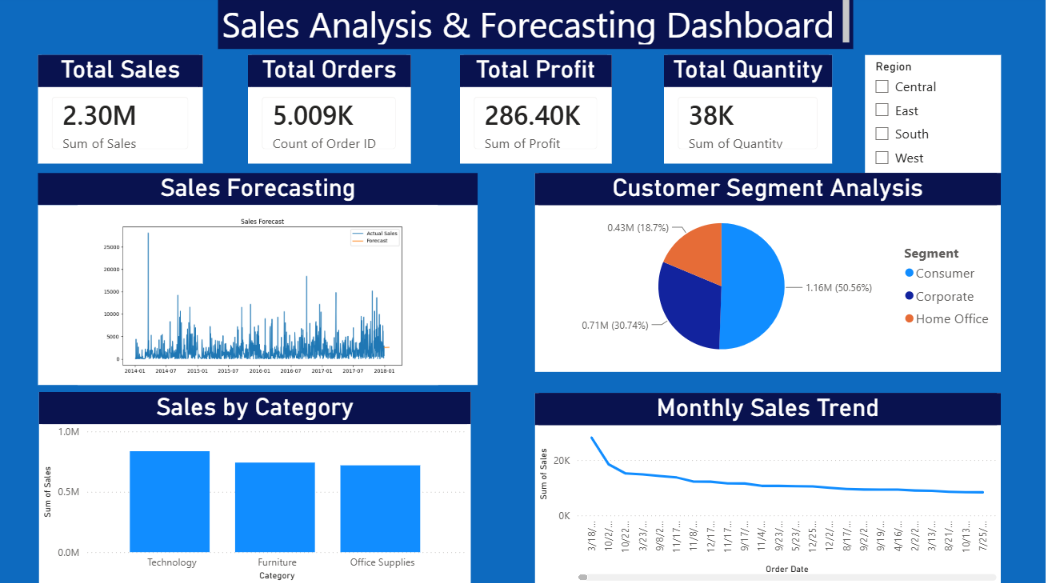

The page's visual inventory and layout, read from the dashboard file:
{"tool":"powerbi","page":{"name":"Page 1","canvas":[1280,720],"ordinal":0},"visuals":[{"type":"shape","box":[0,0,1280.3,720.2],"z":0},{"type":"cardVisual","title":"Total Sales","fields":{"Data":["Sum(Sample - Superstore.Sales)"]},"box":[46.7,72.7,201.7,133.1],"z":1000},{"type":"cardVisual","title":"Total Orders","fields":{"Data":["Count(Sample - Superstore.Order ID)"]},"box":[303.3,72.7,199,133.1],"z":2000},{"type":"clusteredColumnChart","title":"Sales by Category","fields":{"Category":["Sample - Superstore.Category"],"Y":["Sum(Sample - Superstore.Sales)"]},"box":[47.2,483.8,528.3,235.8],"z":3000},{"type":"pieChart","title":"Customer Segment Analysis","fields":{"Category":["Sample - Superstore.Segment"],"Y":["Sum(Sample - Superstore.Sales)"]},"box":[654.5,216.8,569.5,242.9],"z":4000},{"type":"image","title":"Sales Forecasting","box":[46.7,216.8,537.9,259.3],"z":5000},{"type":"lineChart","title":"Monthly Sales Trend","fields":{"Category":["Sample - Superstore.Order Date"],"Y":["Sum(Sample - Superstore.Sales)"]},"box":[654.5,485.8,569.5,234.6],"z":6000},{"type":"cardVisual","title":"Total Quantity","fields":{"Data":["Sum(Sample - Superstore.Quantity)"]},"box":[812.4,72.7,205.8,133.1],"z":7000},{"type":"cardVisual","title":"Total Profit","fields":{"Data":["Sum(Sample - Superstore.Profit)"]},"box":[562.6,72.7,185.2,133.1],"z":8000},{"type":"textbox","box":[266.2,0,776.7,64.5],"z":9000},{"type":"slicer","fields":{"Values":["Sample - Superstore.Region"]},"box":[1057.8,72.1,166.3,144.3],"z":9001}]}

Visuals, with their boxes in screenshot pixels (x1, y1, x2, y2), scaled from the page's 1280x720 canvas onto the 1046x583 screenshot:
shape: (left=0, top=0, right=1045, bottom=582)
"Total Sales" cardVisual: (left=38, top=59, right=203, bottom=167)
"Total Orders" cardVisual: (left=248, top=59, right=410, bottom=167)
"Sales by Category" clusteredColumnChart: (left=39, top=392, right=470, bottom=582)
"Customer Segment Analysis" pieChart: (left=535, top=176, right=1000, bottom=372)
"Sales Forecasting" image: (left=38, top=176, right=478, bottom=386)
"Monthly Sales Trend" lineChart: (left=535, top=393, right=1000, bottom=582)
"Total Quantity" cardVisual: (left=664, top=59, right=832, bottom=167)
"Total Profit" cardVisual: (left=460, top=59, right=611, bottom=167)
textbox: (left=218, top=0, right=852, bottom=52)
slicer - Sample - Superstore.Region: (left=864, top=58, right=1000, bottom=175)
